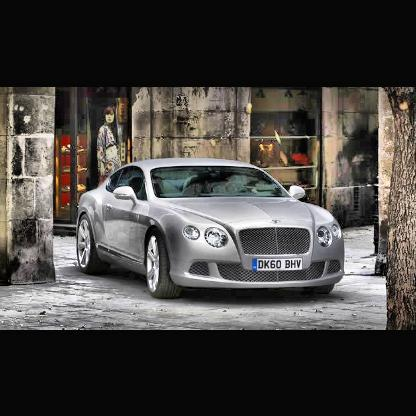Bentley Continental GT Coupe 2012: (75, 155, 349, 303)
